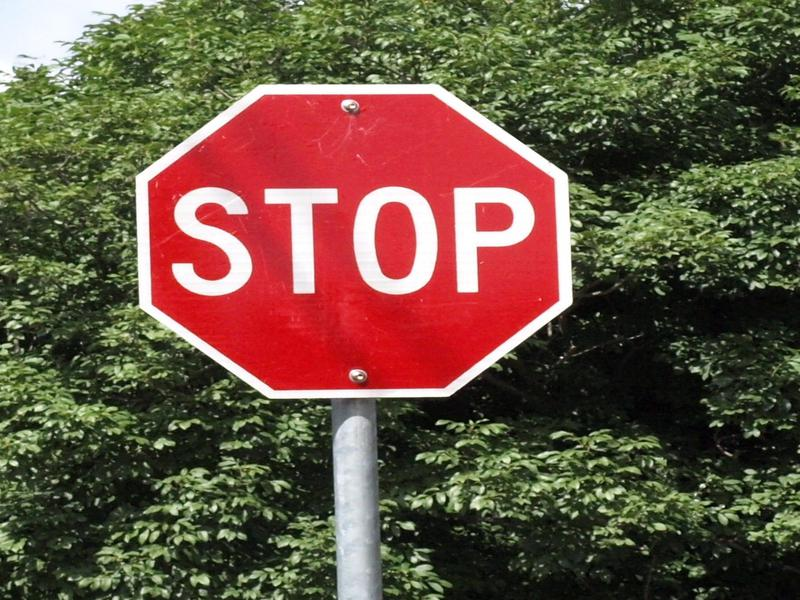stop: (131, 84, 579, 408)
